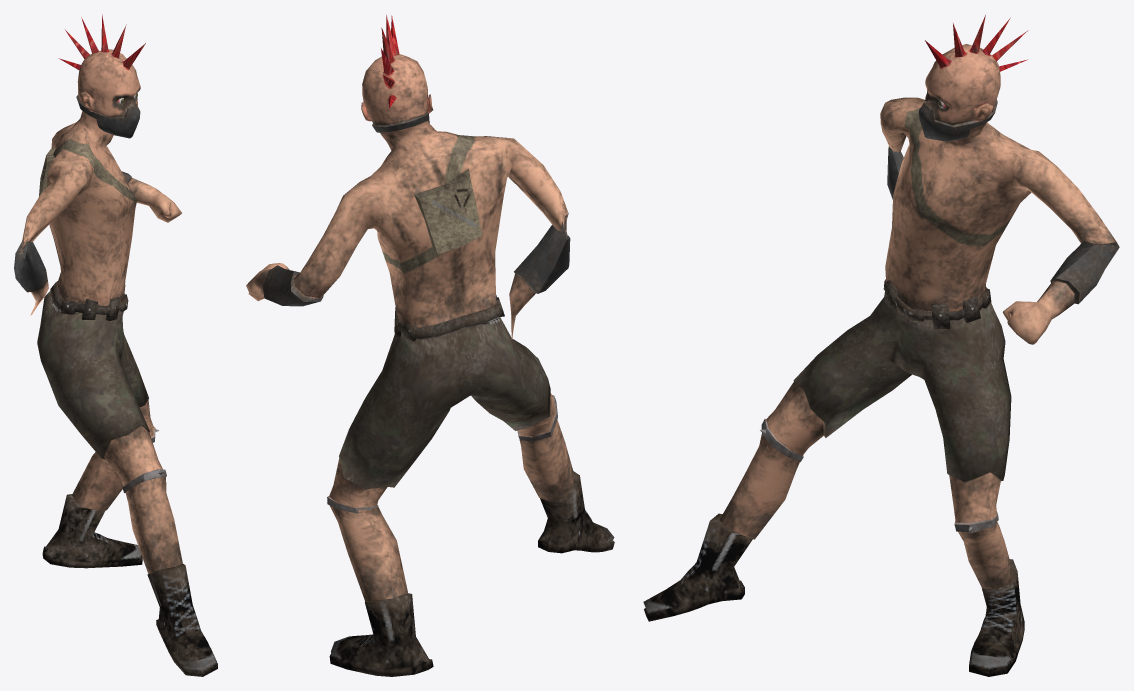
The model's file is Anim_ataque_f2_npc2.0024.obj.
The picture shows the model from 3 angles, left to right: view 1: azimuth 30°, elevation 25°; view 2: azimuth 150°, elevation 25°; view 3: azimuth 270°, elevation 25°; orthographic projection. The views are drawn at different scales.
Parts seen in each view (by area): view 1: polySurface1; view 2: polySurface1; view 3: polySurface1.
Boxes of the visible parts, left/top/right/bottom form: polySurface1: left=14, top=14, right=217, bottom=676; polySurface1: left=246, top=14, right=614, bottom=676; polySurface1: left=643, top=15, right=1119, bottom=676.
Bounding box in the file's own units: 3.99 × 9.58 × 6.46.
